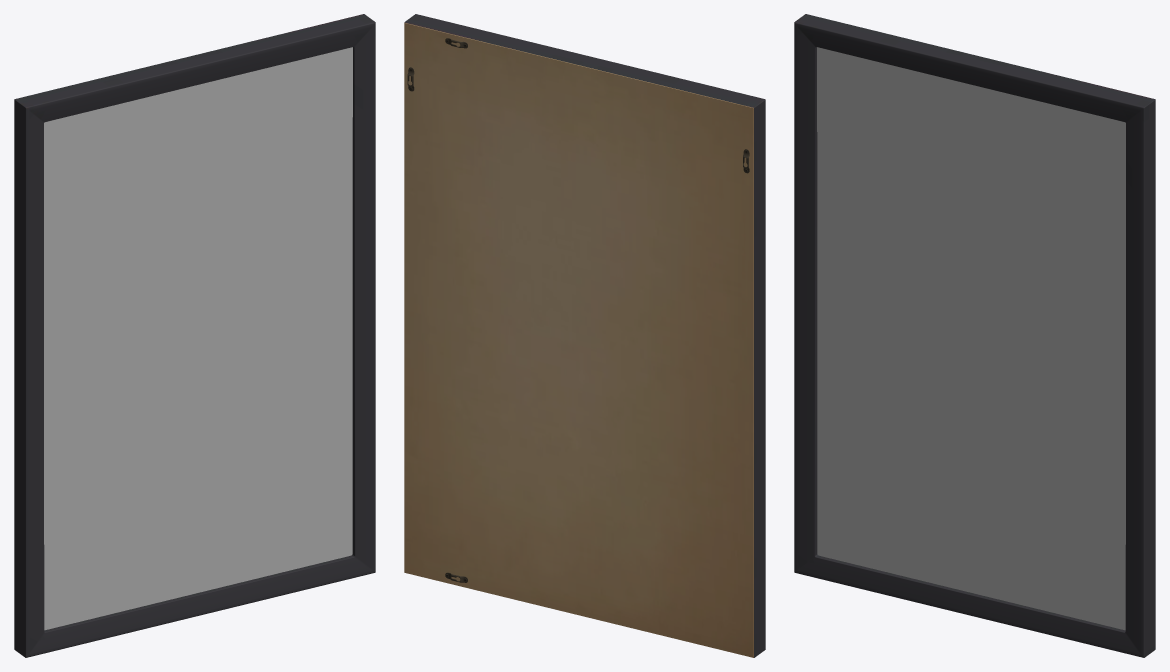
The model's file is B07RNMNGYF.glb.
The picture shows the model from 3 angles, left to right: view 1: azimuth 30°, elevation 25°; view 2: azimuth 150°, elevation 25°; view 3: azimuth 330°, elevation 25°; orthographic projection.
Parts seen in each view (by area): view 1: RootNode; view 2: RootNode; view 3: RootNode.
Part boxes in pixels (bbox=[...]): RootNode: bbox=[14, 14, 375, 657]; RootNode: bbox=[404, 14, 765, 657]; RootNode: bbox=[794, 14, 1155, 657].
Bounding box in the file's own units: 0.6091 × 0.9147 × 0.0402.
1 material, 1 textured.
